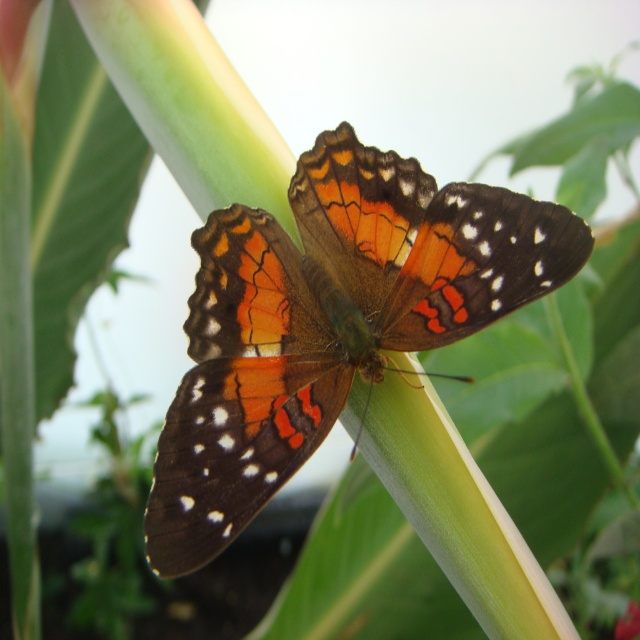Butterfly: (166, 151, 554, 583)
